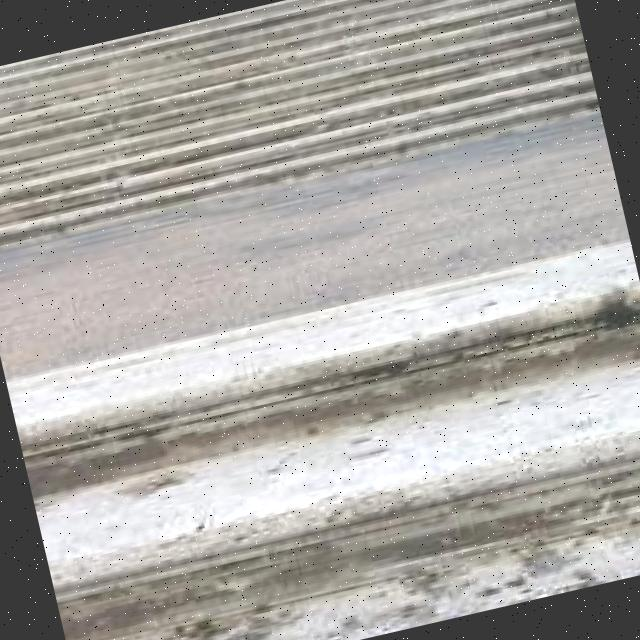stairs: (0, 0, 640, 640), (0, 0, 597, 254)
